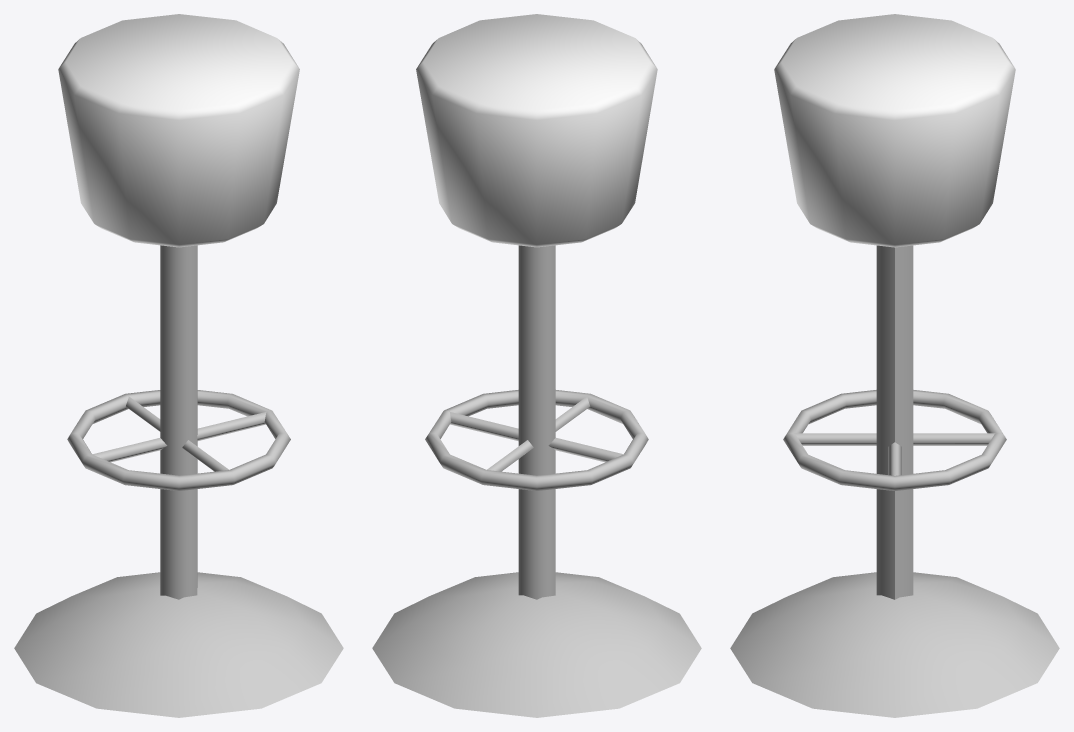
The model's file is chair_018.fbx.
The picture shows the model from 3 angles, left to right: view 1: azimuth 30°, elevation 25°; view 2: azimuth 150°, elevation 25°; view 3: azimuth 270°, elevation 25°; orthographic projection.
Visible parts, largest first — view 1: chair_018; view 2: chair_018; view 3: chair_018.
Boxes of the visible parts, <box> form: chair_018: <box>14,14,343,717</box>; chair_018: <box>372,14,701,717</box>; chair_018: <box>730,14,1059,717</box>.
Bounding box in the file's own units: 58.5 × 58.46 × 115.
